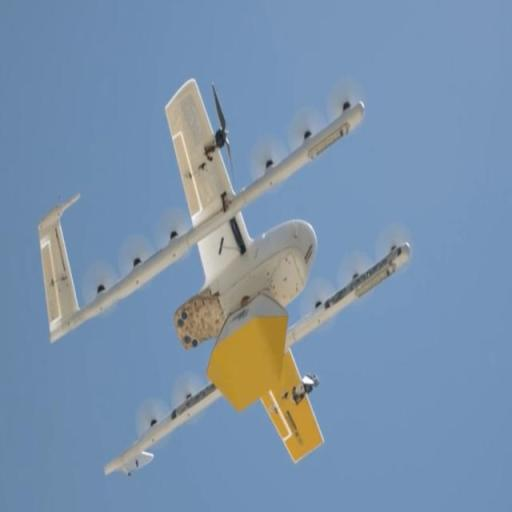uav: (24, 78, 430, 498)
